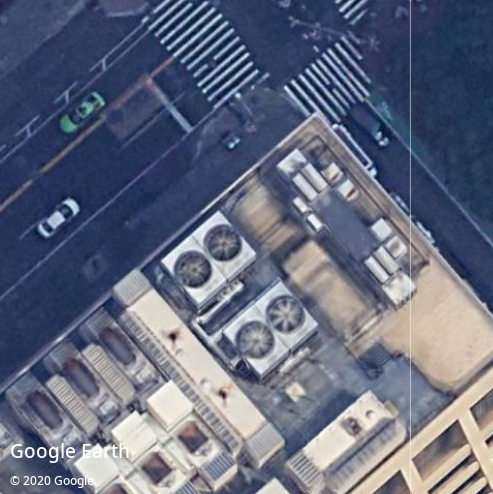Vent: (239, 323, 275, 359), (269, 297, 305, 332), (206, 228, 243, 262), (176, 254, 212, 288)
